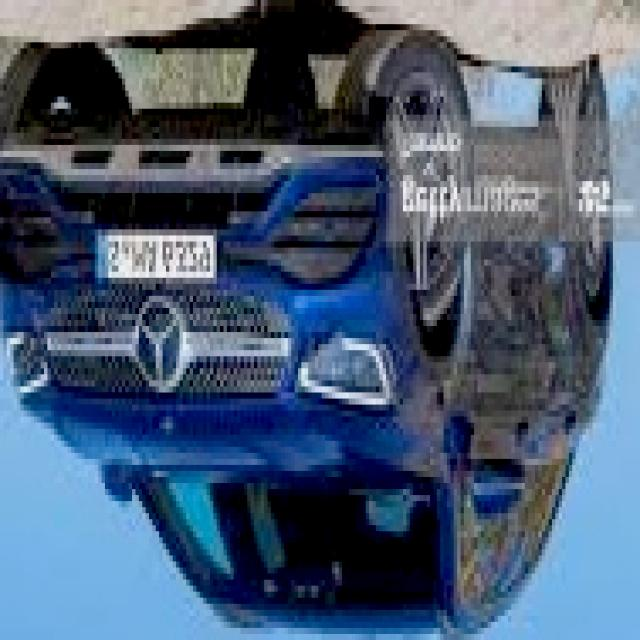blue: (0, 42, 614, 635)
